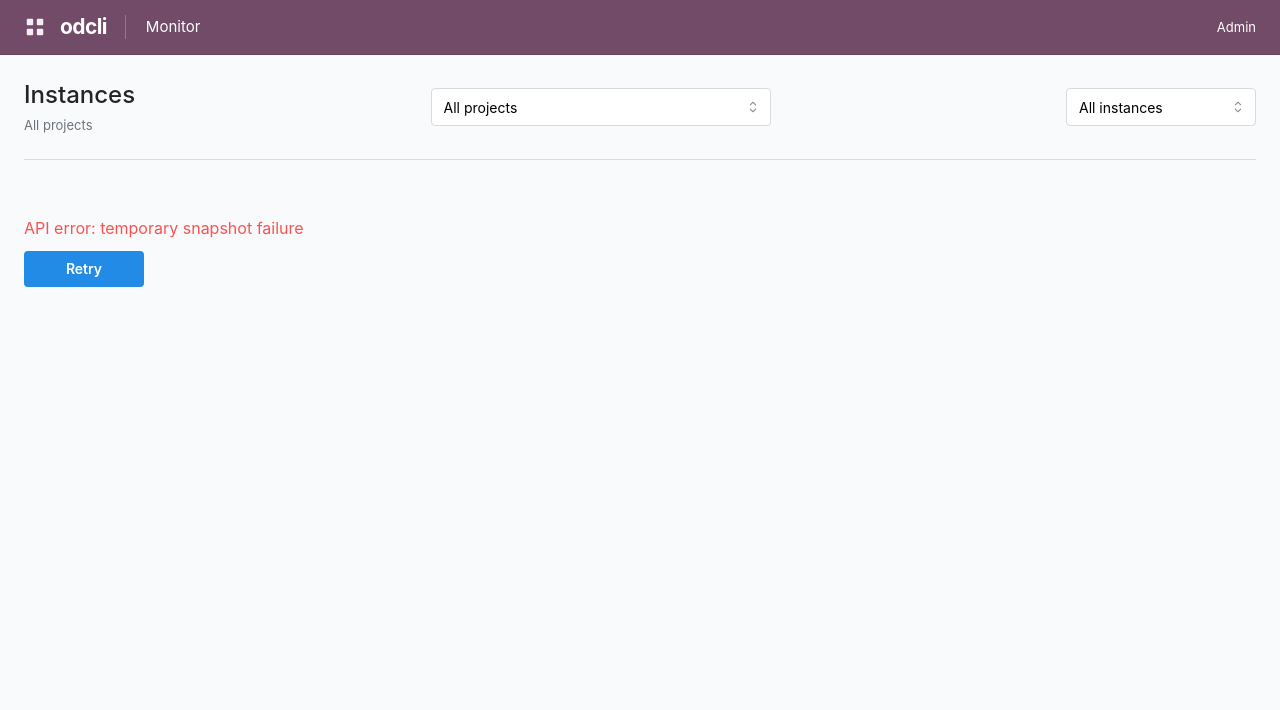
Test: App › retains initial snapshot errors and recovers through Retry
Expected: the text "API error: temporary snapshot failure" is shown, [24, 218, 304, 238]
Click the button "Retry".
click(84, 269)  # box [24, 251, 144, 287]
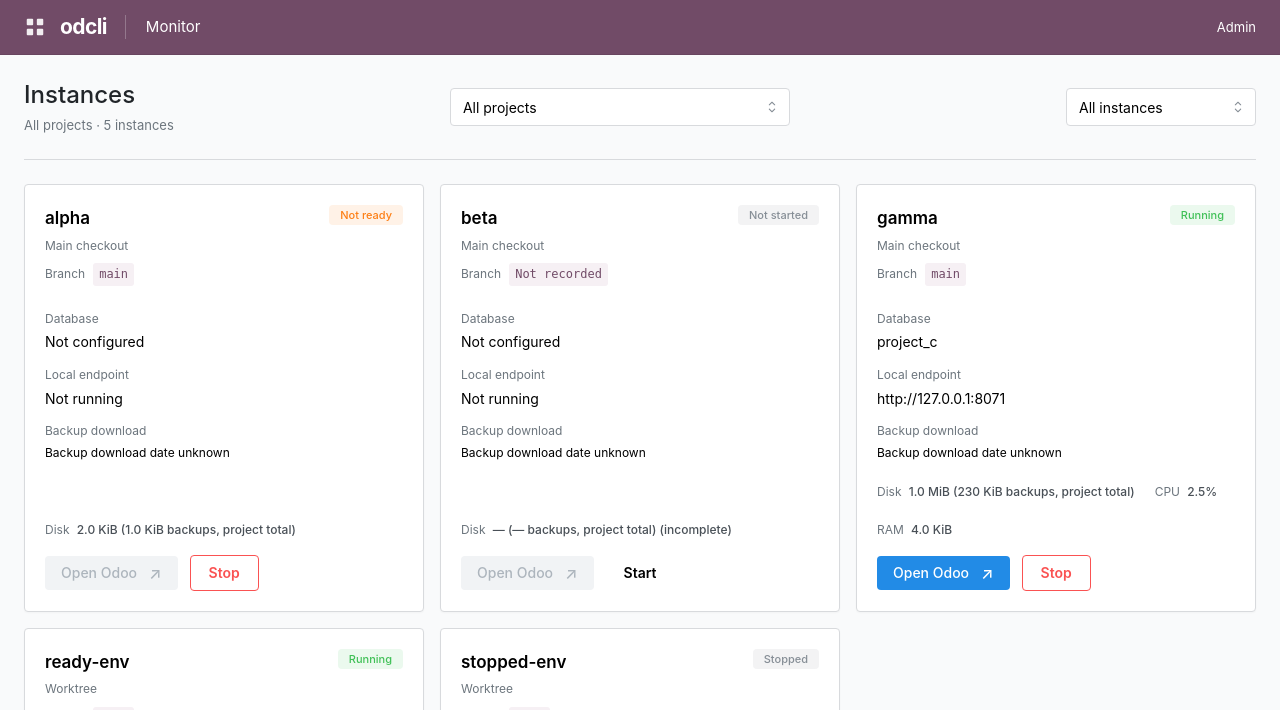
Expected: the text "ready-env" is shown, [45, 649, 134, 675]
